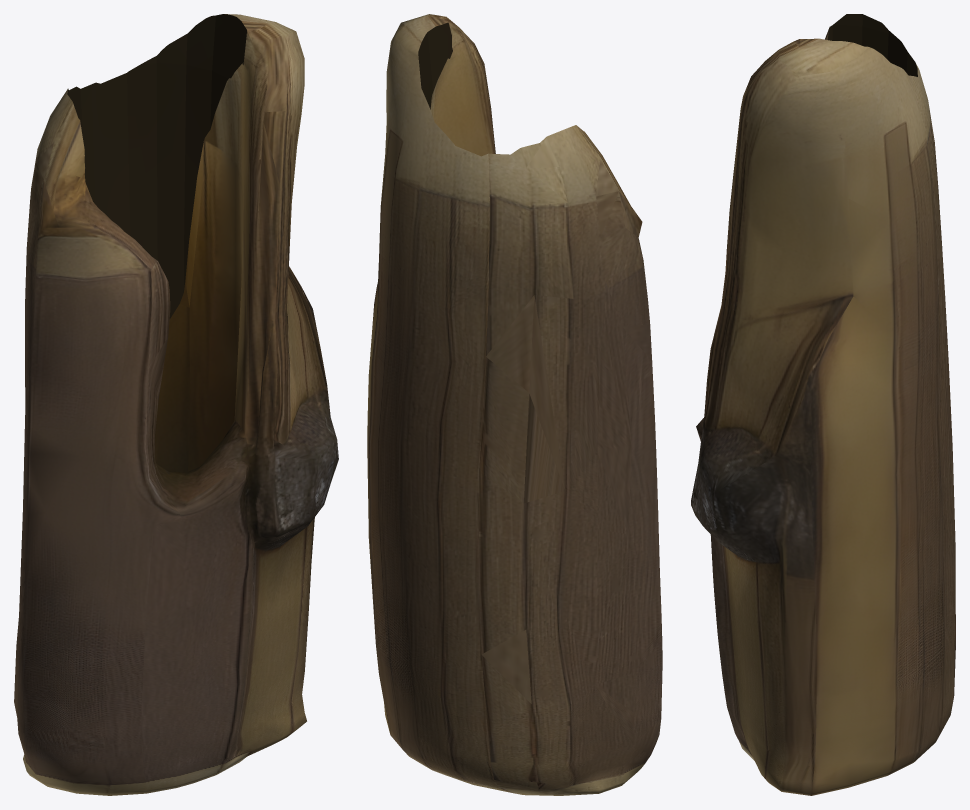
Rendered from PenSleeve.fbx.
3 views of the same model, side by side, from view 1: azimuth 30°, elevation 25°; view 2: azimuth 150°, elevation 25°; view 3: azimuth 270°, elevation 25° (orthographic). The views are drawn at different scales.
Visible parts, largest first — view 1: PenSleeve_LOD0; view 2: PenSleeve_LOD0; view 3: PenSleeve_LOD0.
Boxes of the visible parts, x1,y1,x2,y2 form: PenSleeve_LOD0: [14, 14, 338, 795]; PenSleeve_LOD0: [367, 14, 662, 795]; PenSleeve_LOD0: [691, 14, 955, 795].
Size of what is drawn, in the model's own units: 0.034 by 0.08 by 0.0256.
